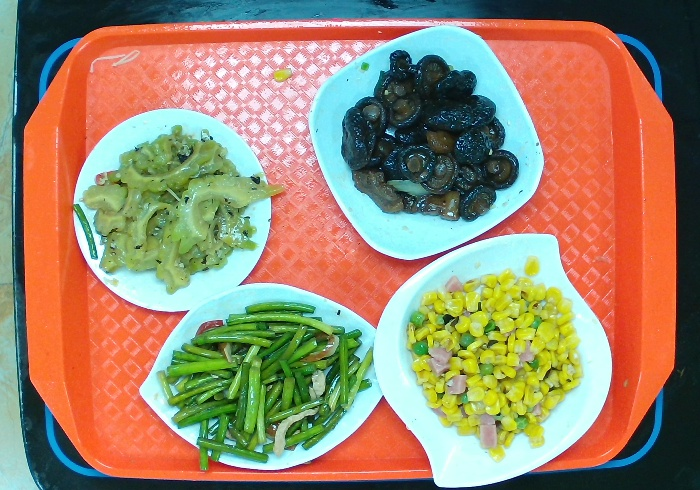RJxy-Da_Du_Pan: (139, 276, 393, 477)
RJxy-Shuang_Jiao_Pan: (369, 229, 615, 490)
RJxy-Si_Fang_Wan: (309, 24, 546, 264)
RJxy-Xiao_Yuan_Die: (71, 104, 274, 317)
